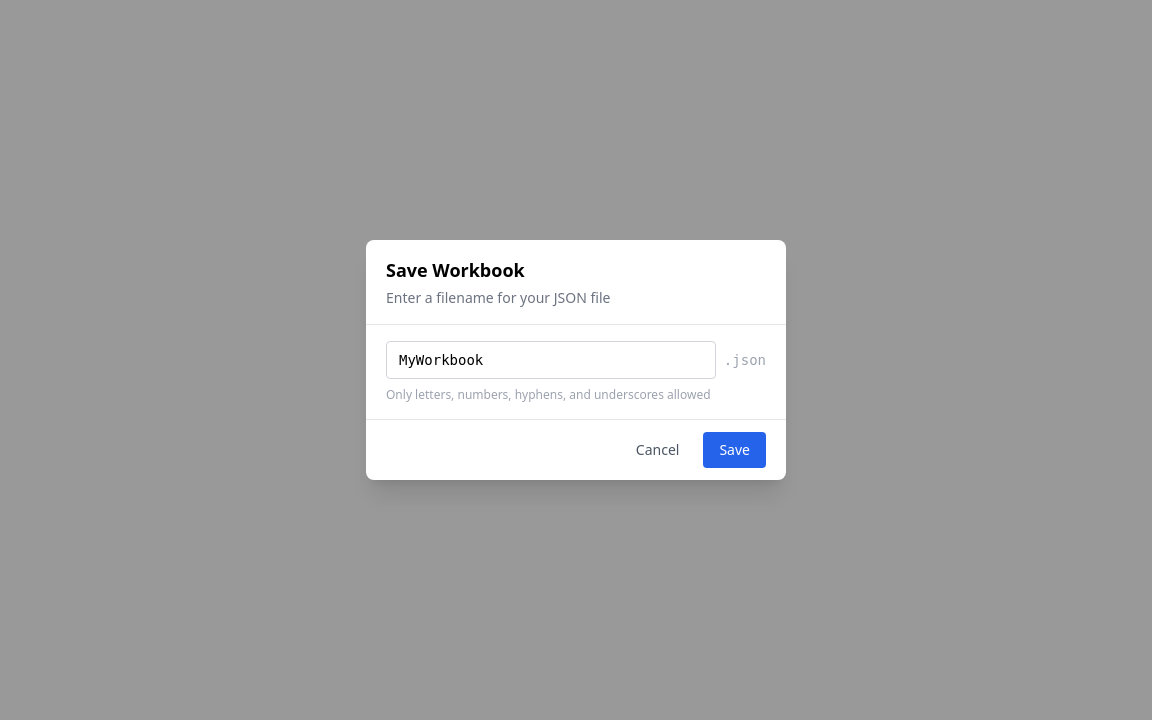
Scenario: FilenameModal › shows error for invalid characters
Replace the text in the field showing "MyWorkbook" with "file<name>" at (551, 360), box [386,341,716,379]
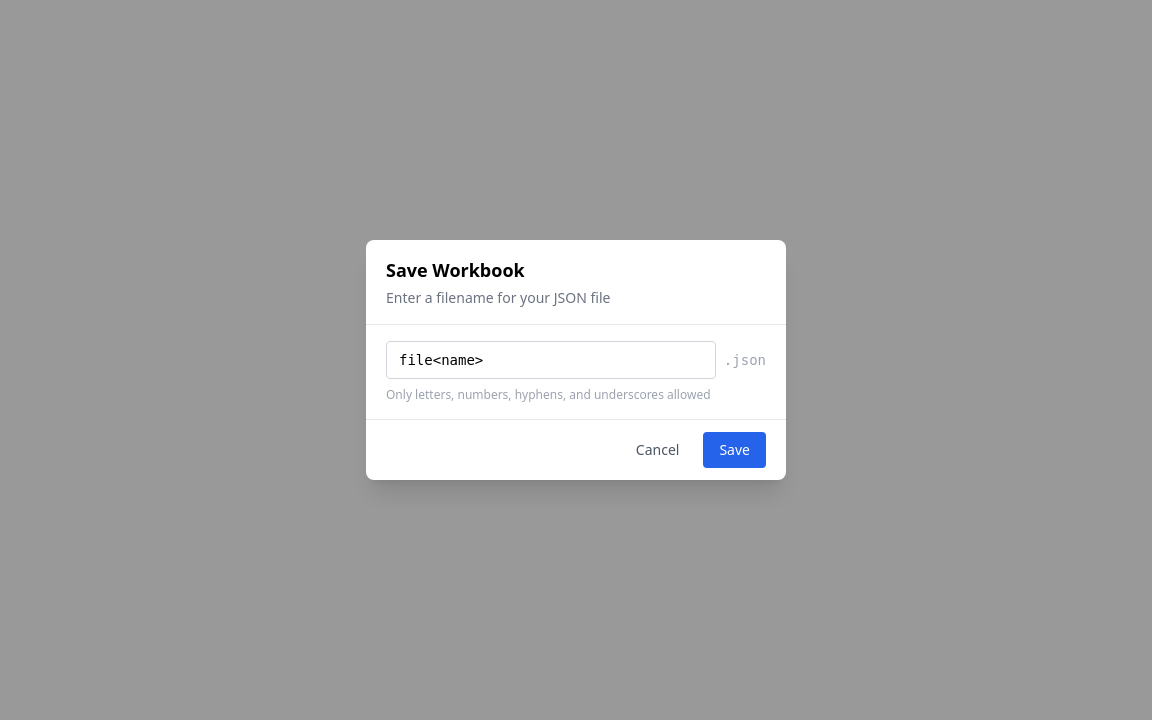
Click the button "Save".
click(735, 450)  # box [703,432,766,468]
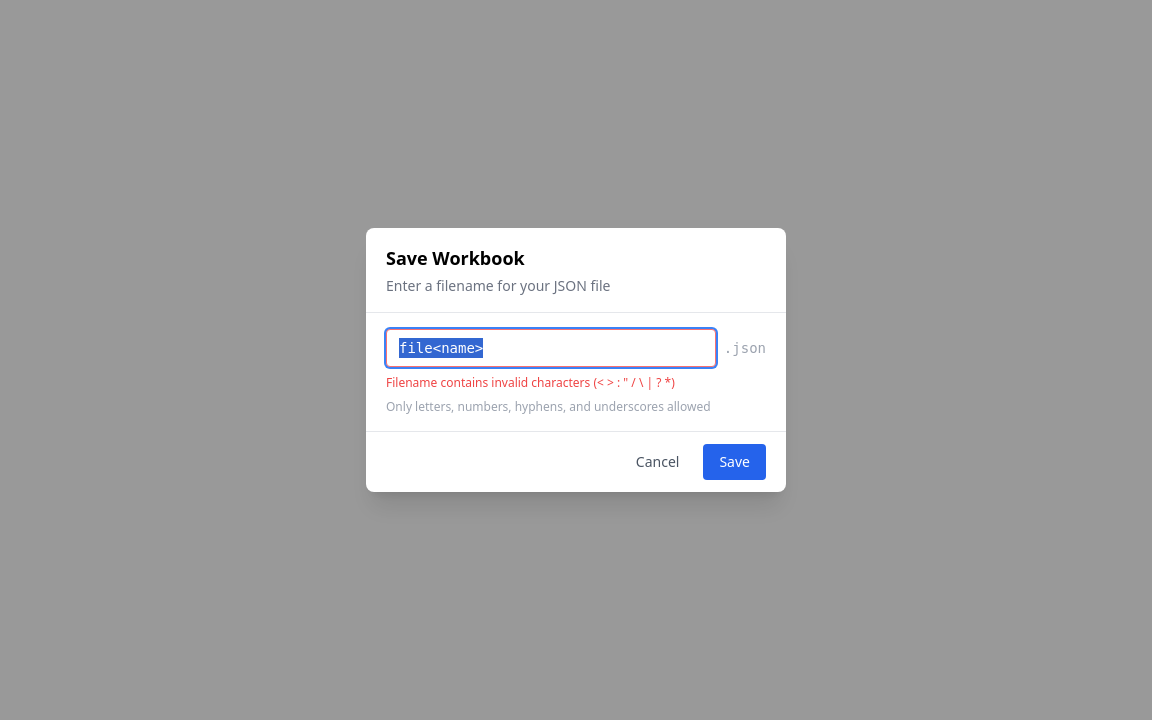
Now the text "Filename contains invalid characters (< > : \" / \\ | ? *)" is shown, box [386,374,675,391]
